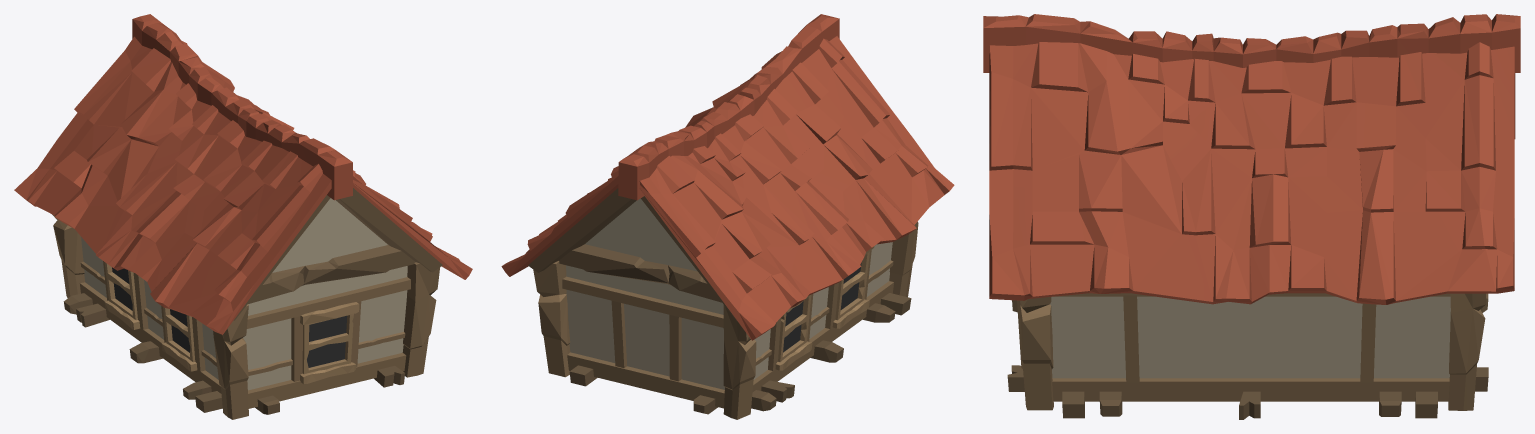
The model's file is SM_Bld_House_RoomTop_03.gltf.
3 views of the same model, side by side, from view 1: azimuth 30°, elevation 25°; view 2: azimuth 150°, elevation 25°; view 3: azimuth 270°, elevation 25° (orthographic). The views are drawn at different scales.
Parts seen in each view (by area): view 1: SM_Bld_House_RoomTop_03; view 2: SM_Bld_House_RoomTop_03; view 3: SM_Bld_House_RoomTop_03.
Boxes of the visible parts, <box> form: SM_Bld_House_RoomTop_03: <box>14,14,472,419</box>; SM_Bld_House_RoomTop_03: <box>501,14,954,419</box>; SM_Bld_House_RoomTop_03: <box>983,14,1520,419</box>.
Bounding box in the file's own units: 5.43 × 4.65 × 6.86.
Materials: 1 (1 with a texture image).
